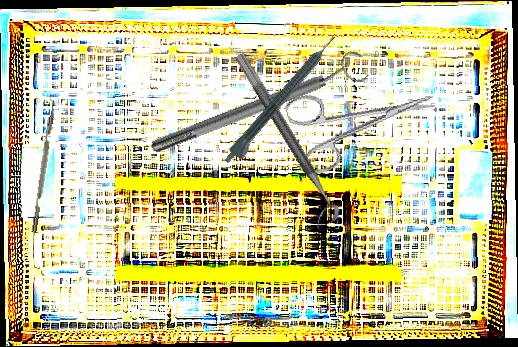Chopper: (25, 95, 58, 234)
Fixation Ring: (145, 47, 372, 163), (219, 51, 344, 231)
Handpiece: (221, 33, 344, 170)
Iris Scissors: (283, 65, 445, 178)
